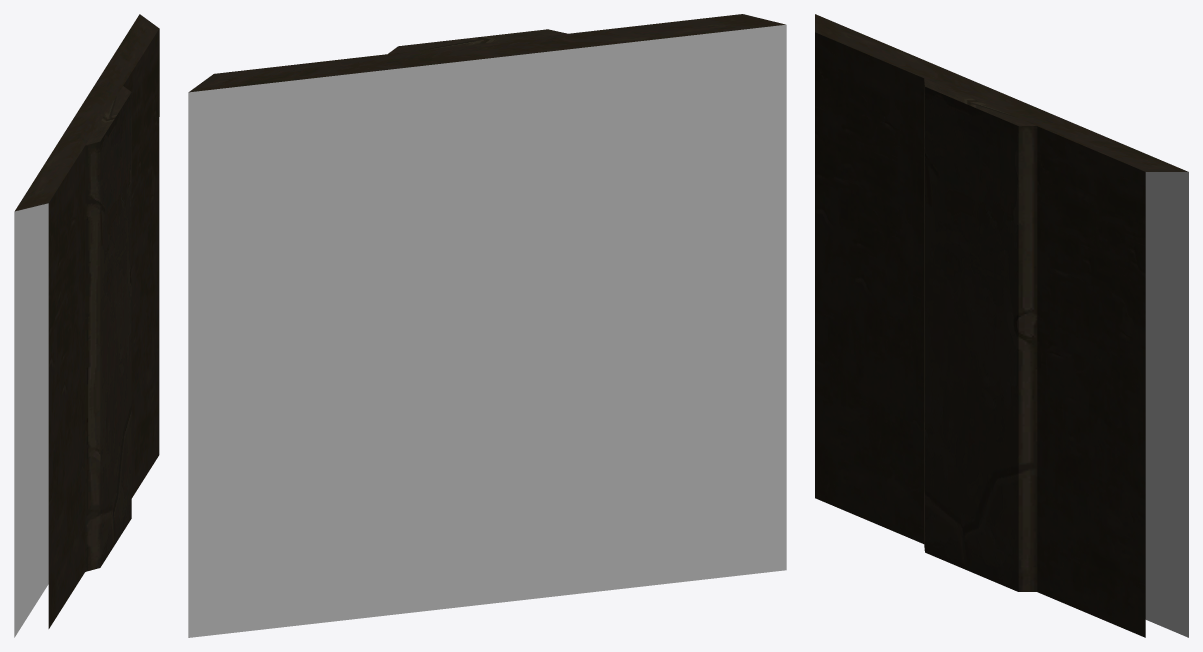
Rendered from fortress_wall_diagonal_02.fbx.
3 views of the same model, side by side, from view 1: azimuth 30°, elevation 25°; view 2: azimuth 150°, elevation 25°; view 3: azimuth 270°, elevation 25° (orthographic). The views are drawn at different scales.
Parts seen in each view (by area): view 1: fortress_wall_diagonal_02-0; view 2: fortress_wall_diagonal_02-0; view 3: fortress_wall_diagonal_02-0.
Boxes of the visible parts, x1=… form: fortress_wall_diagonal_02-0: x1=14, y1=14, x2=159, y2=637; fortress_wall_diagonal_02-0: x1=188, y1=14, x2=786, y2=637; fortress_wall_diagonal_02-0: x1=815, y1=14, x2=1188, y2=637.
Size of the model in its own units: 4 by 5.5 by 4.
